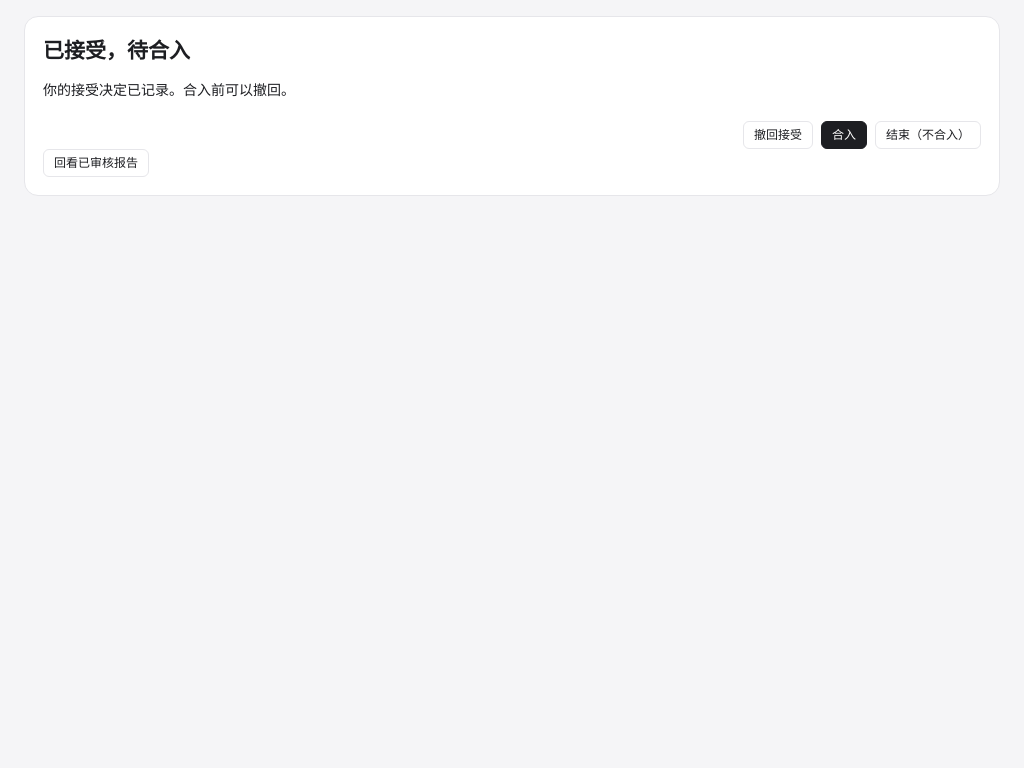
accepted 时结束（不合入）先确认，取消不发送请求
Click the button "结束（不合入）" at (928, 135), box left=875, top=121, right=981, bottom=149
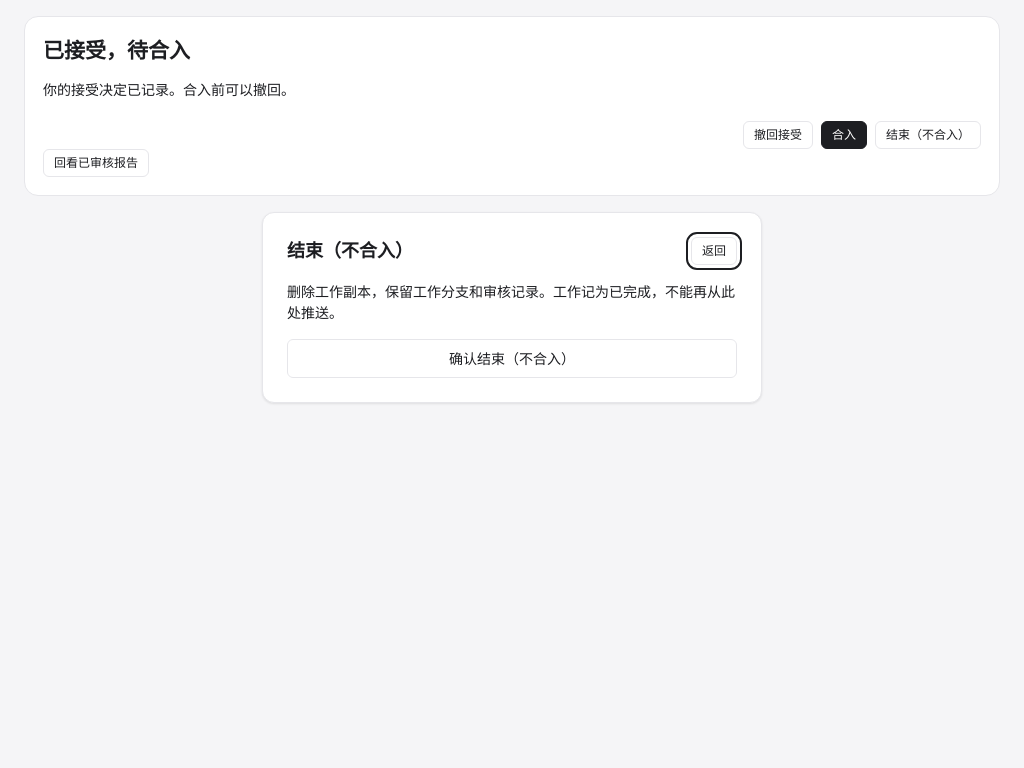
Now the text "删除工作副本，保留工作分支和审核记录。工作记为已完成，不能再从此处推送。" is shown, box left=287, top=281, right=737, bottom=323
Click the button "返回" at (714, 251), box left=691, top=237, right=737, bottom=265
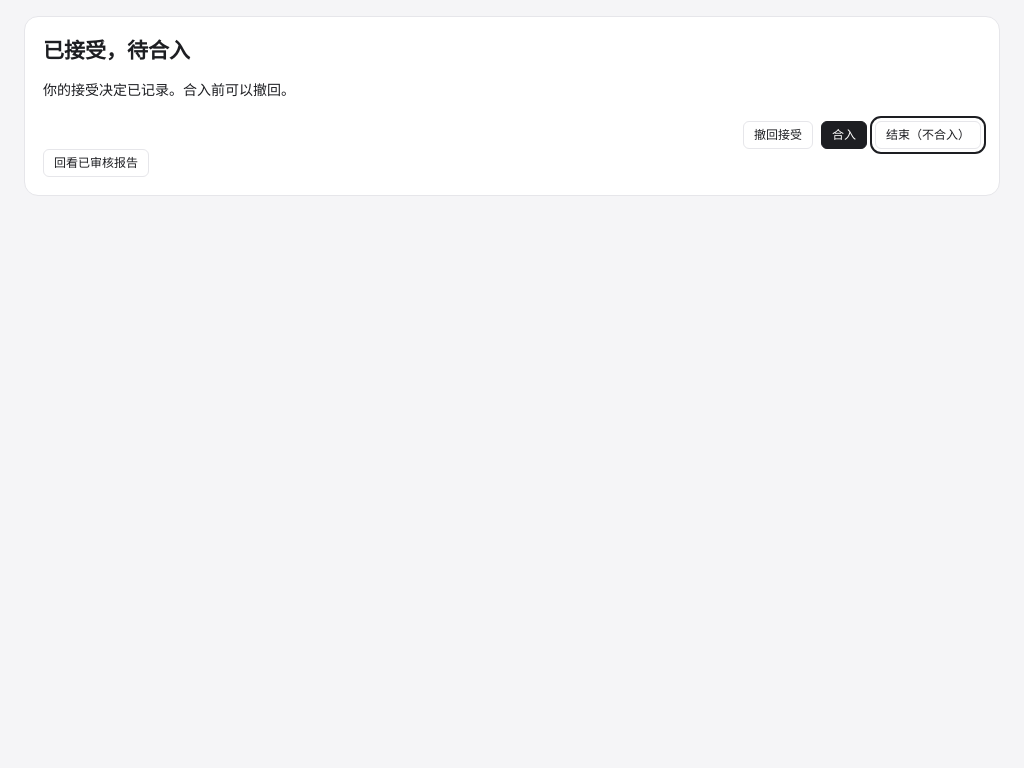
Now the dialog is gone
Click the button "结束（不合入）" at (928, 135), box left=875, top=121, right=981, bottom=149
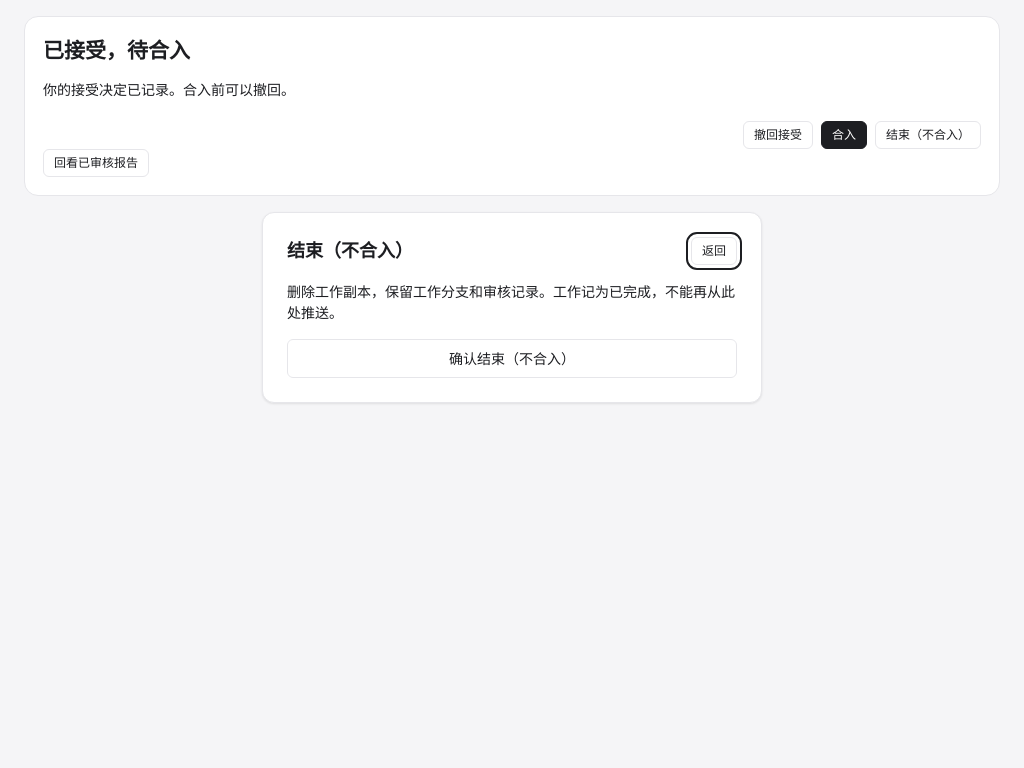
Click the button "确认结束（不合入）" at (512, 358), box left=287, top=339, right=737, bottom=378
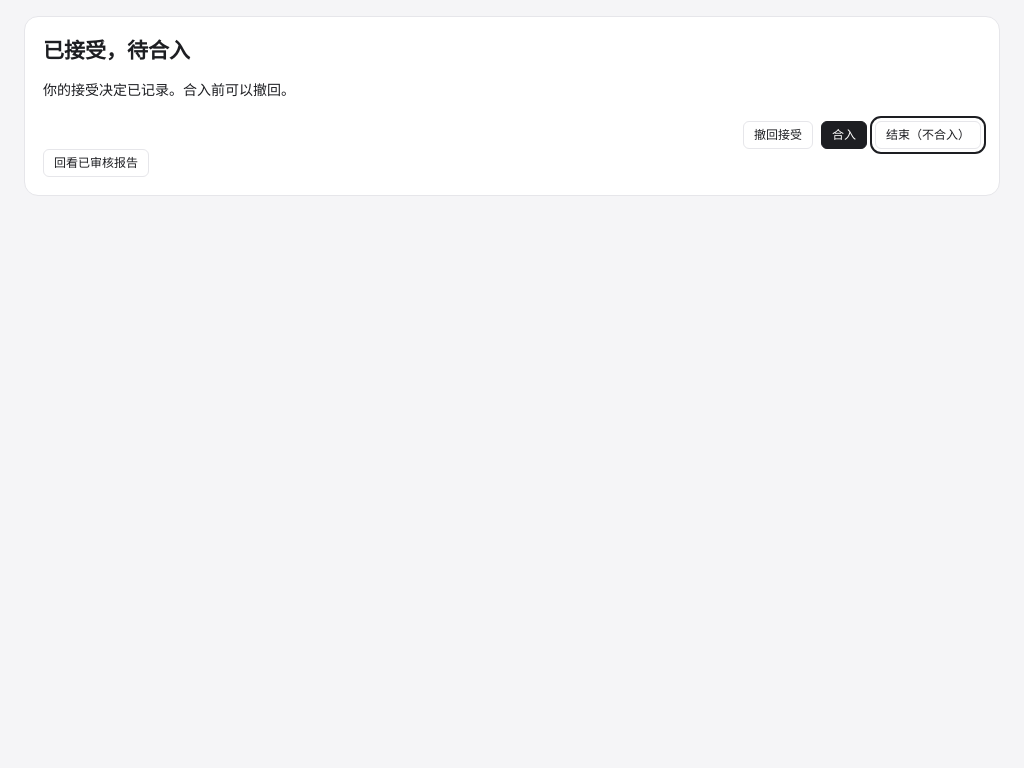
Now the dialog is gone
